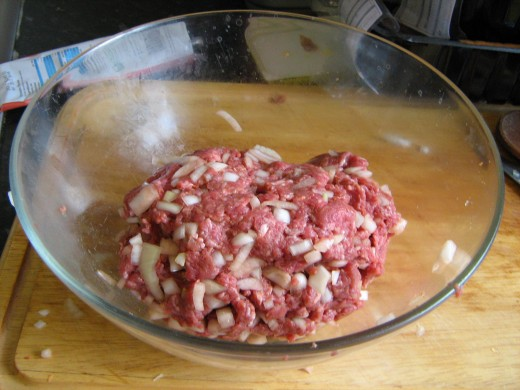ground_beef: (115, 128, 387, 367)
